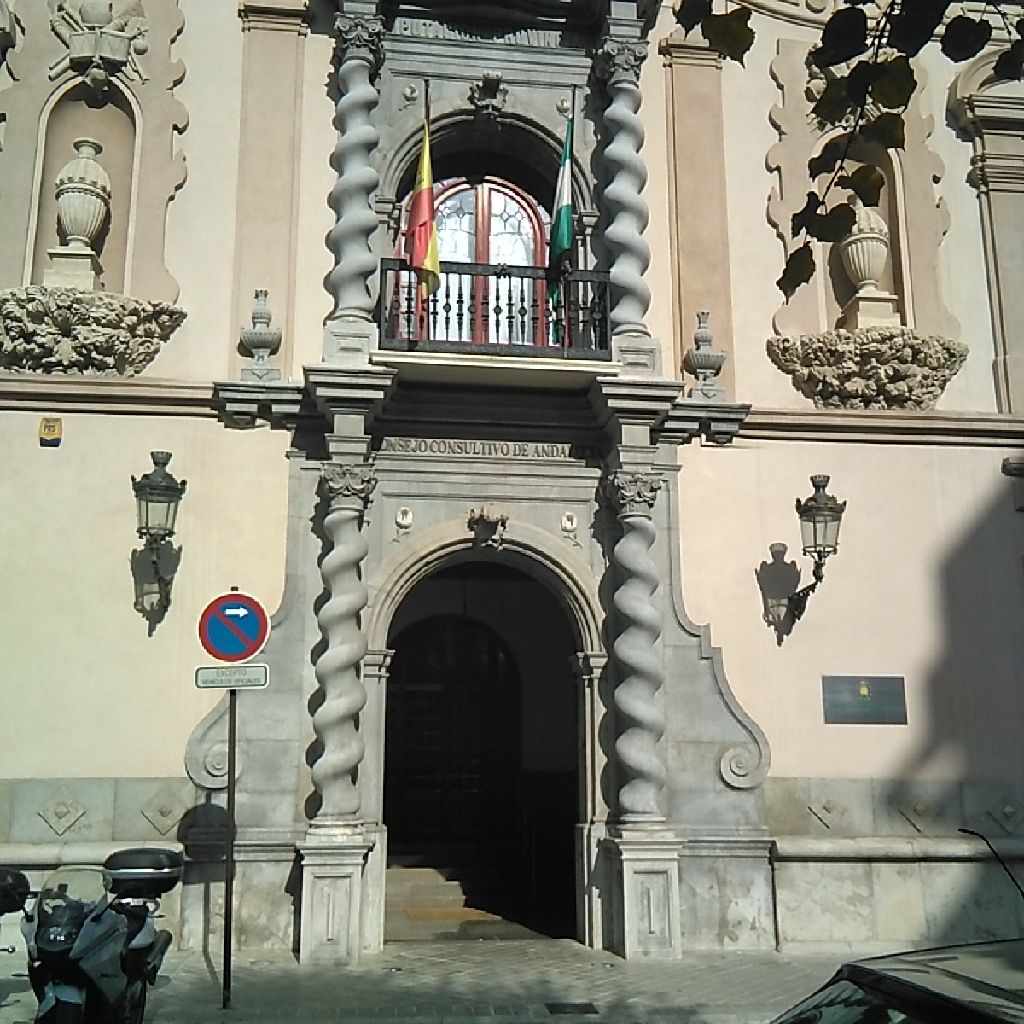arco-medio-punto: (378, 543, 595, 694), (380, 103, 590, 248)
columna-salomonica: (309, 511, 373, 821), (607, 514, 671, 818), (322, 58, 385, 331), (598, 80, 654, 339)
